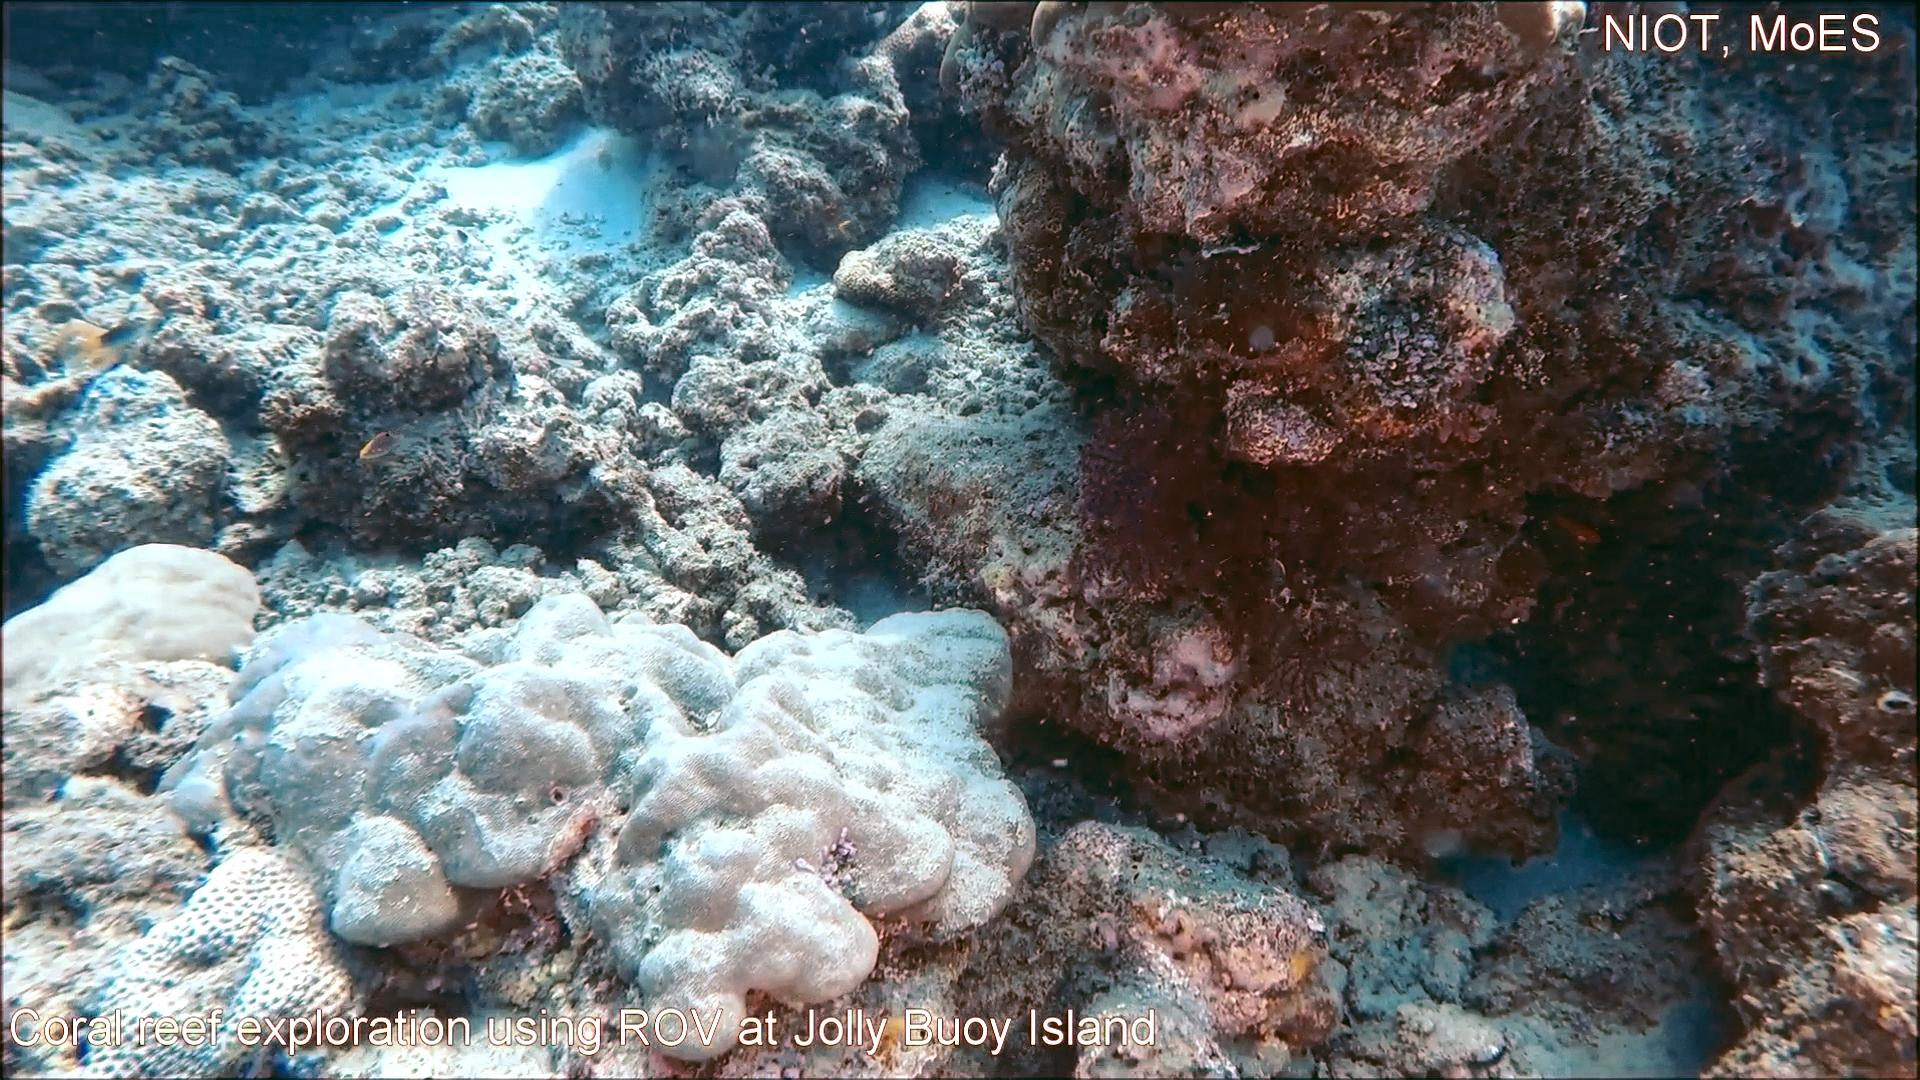Goniastrea-Goniastrea pectinata: (82, 832, 357, 1080)
Gorgonian-Purple Plexaura: (1065, 364, 1378, 729)
Porites-Porites pukoensis: (451, 584, 1036, 1073)
